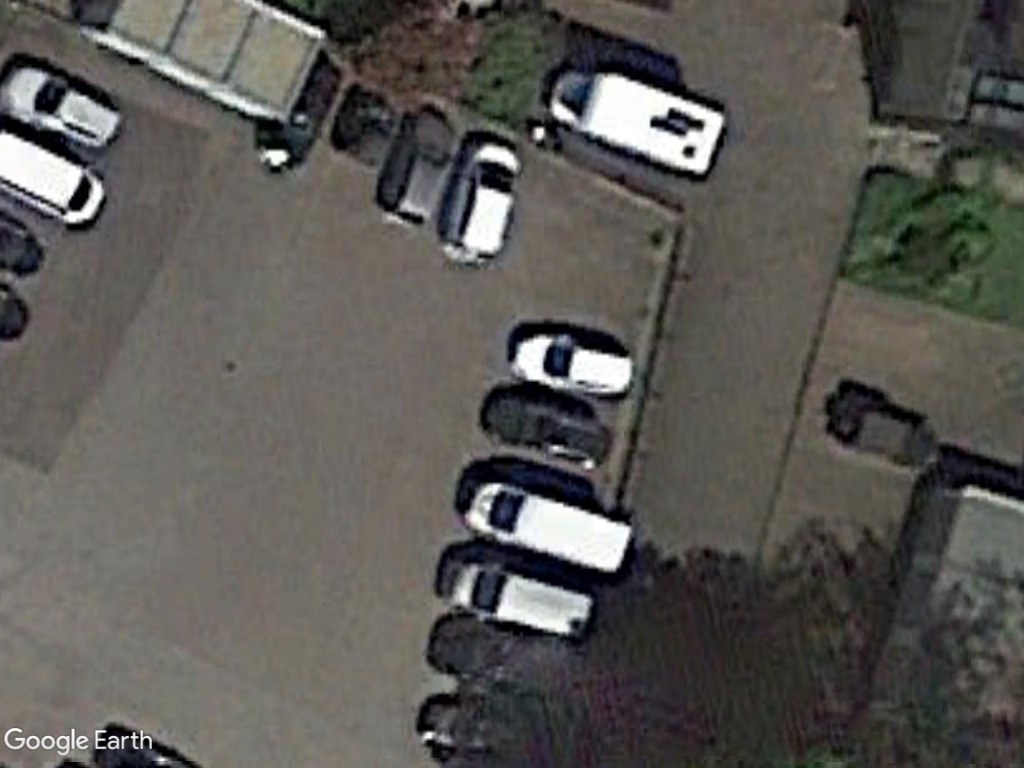car: (0, 54, 123, 153), (434, 141, 525, 272), (506, 325, 637, 402)
truck: (545, 61, 730, 181)
van: (459, 476, 636, 580), (439, 557, 594, 640)
